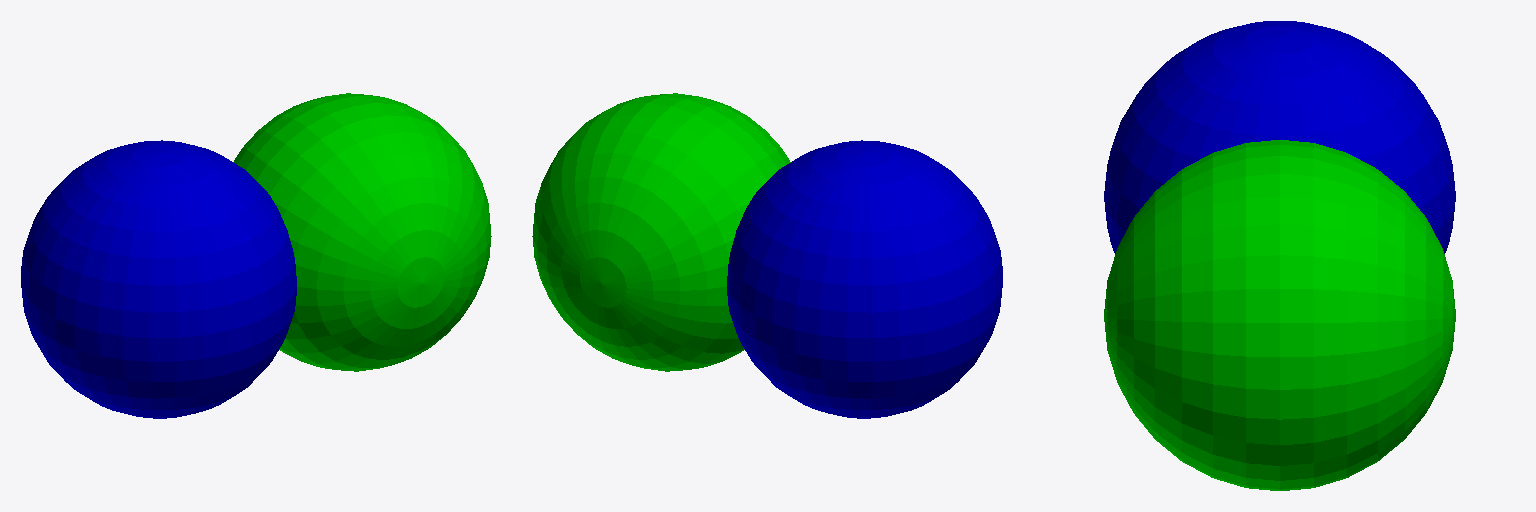
The robot description file, URDF, robot "A_vs_B":
<?xml version="1.0"?>
<robot name="A_vs_B">
  <material name="blue">
    <color rgba="0 0 0.8 .5"/>
  </material>
  <material name="green">
    <color rgba="0 0.8 0 .5"/>
  </material>
  <link name="A">
    <visual>
      <geometry>
        <sphere radius="1"/>
      </geometry>
      <origin rpy="0.0 0 0" xyz="-0.8 0 0"/>
      <material name="blue"/>
    </visual>
  </link>
  <link name="B">
    <visual>
      <geometry>
        <mesh filename="package://exotica_examples/test/resources/uvsphere.obj"/>
      </geometry>
      <origin rpy="0 0 0" xyz="0.8 0 0"/>
      <material name="green"/>
    </visual>
  </link>
  <joint name="joint1" type="revolute">
    <axis xyz="0 0 1"/>
    <limit effort="1" lower="-1" upper="1" velocity="1"/>
    <origin rpy="0 0 0" xyz="0 0 0"/>
    <parent link="A"/>
    <child link="B"/>
  </joint>
</robot>

--- Render facts (derived) ---
3 views of the same robot in one strip: view 1: azimuth 30°, elevation 25°; view 2: azimuth 150°, elevation 25°; view 3: azimuth 270°, elevation 25° (orthographic).
Model A_vs_B with 2 links and 1 joints (1 revolute), rooted at A, posed all joints at 0.
Visible links, largest first — view 1: A, B; view 2: A, B; view 3: B, A.
Link boxes in pixels (bbox=[...]): A: bbox=[21, 140, 296, 418]; B: bbox=[233, 93, 491, 371]; A: bbox=[727, 140, 1002, 418]; B: bbox=[532, 93, 790, 371]; B: bbox=[1104, 140, 1455, 490]; A: bbox=[1104, 21, 1455, 253].
Size in the robot's own frame: 3.6 by 2 by 2 metres.
1 mesh visuals loaded from 1 distinct referenced files (1 OBJ).